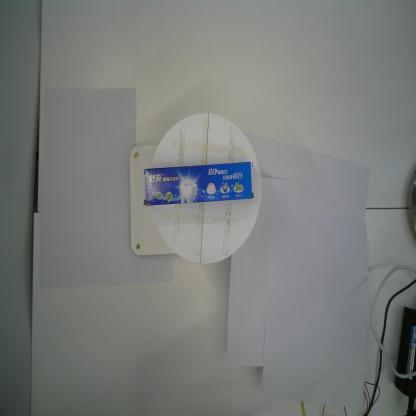Personal Hygiene: (142, 160, 256, 208)
